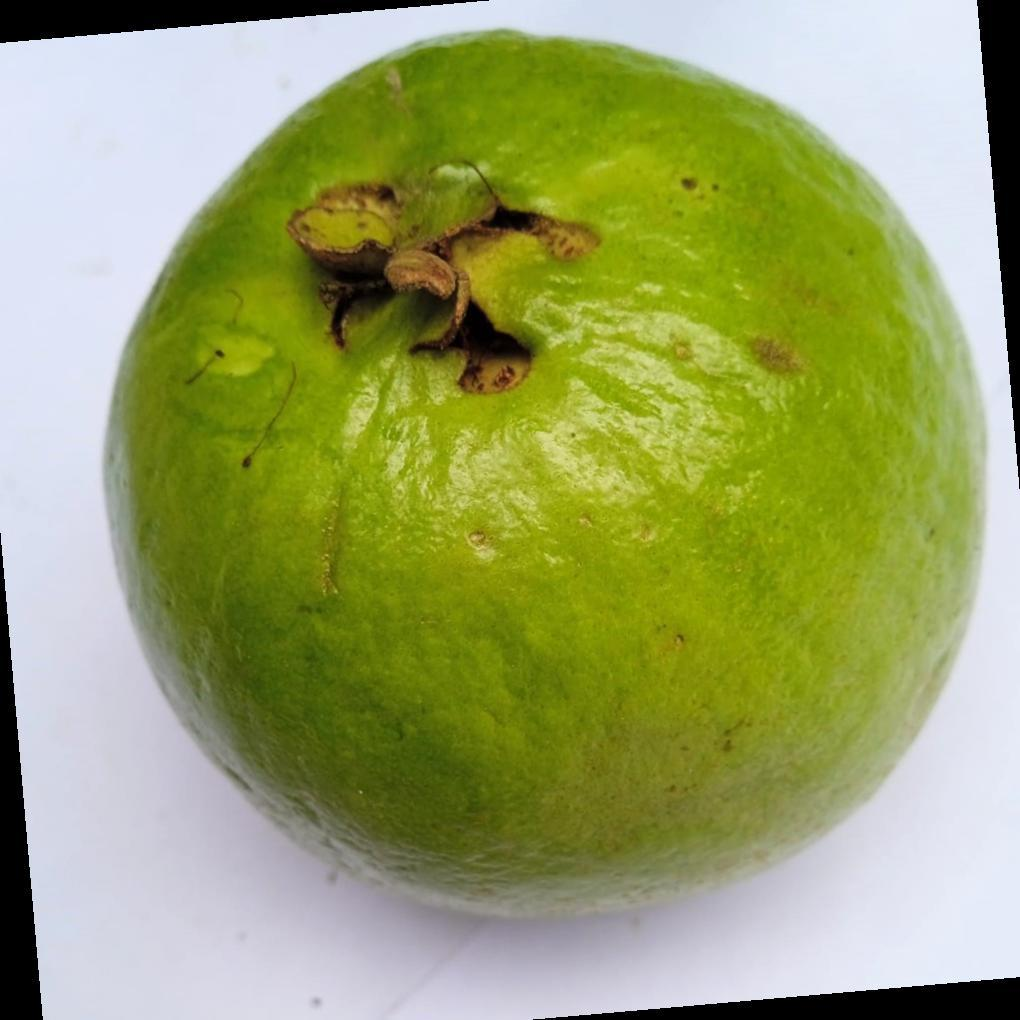FreshGuava: (98, 31, 987, 926)
